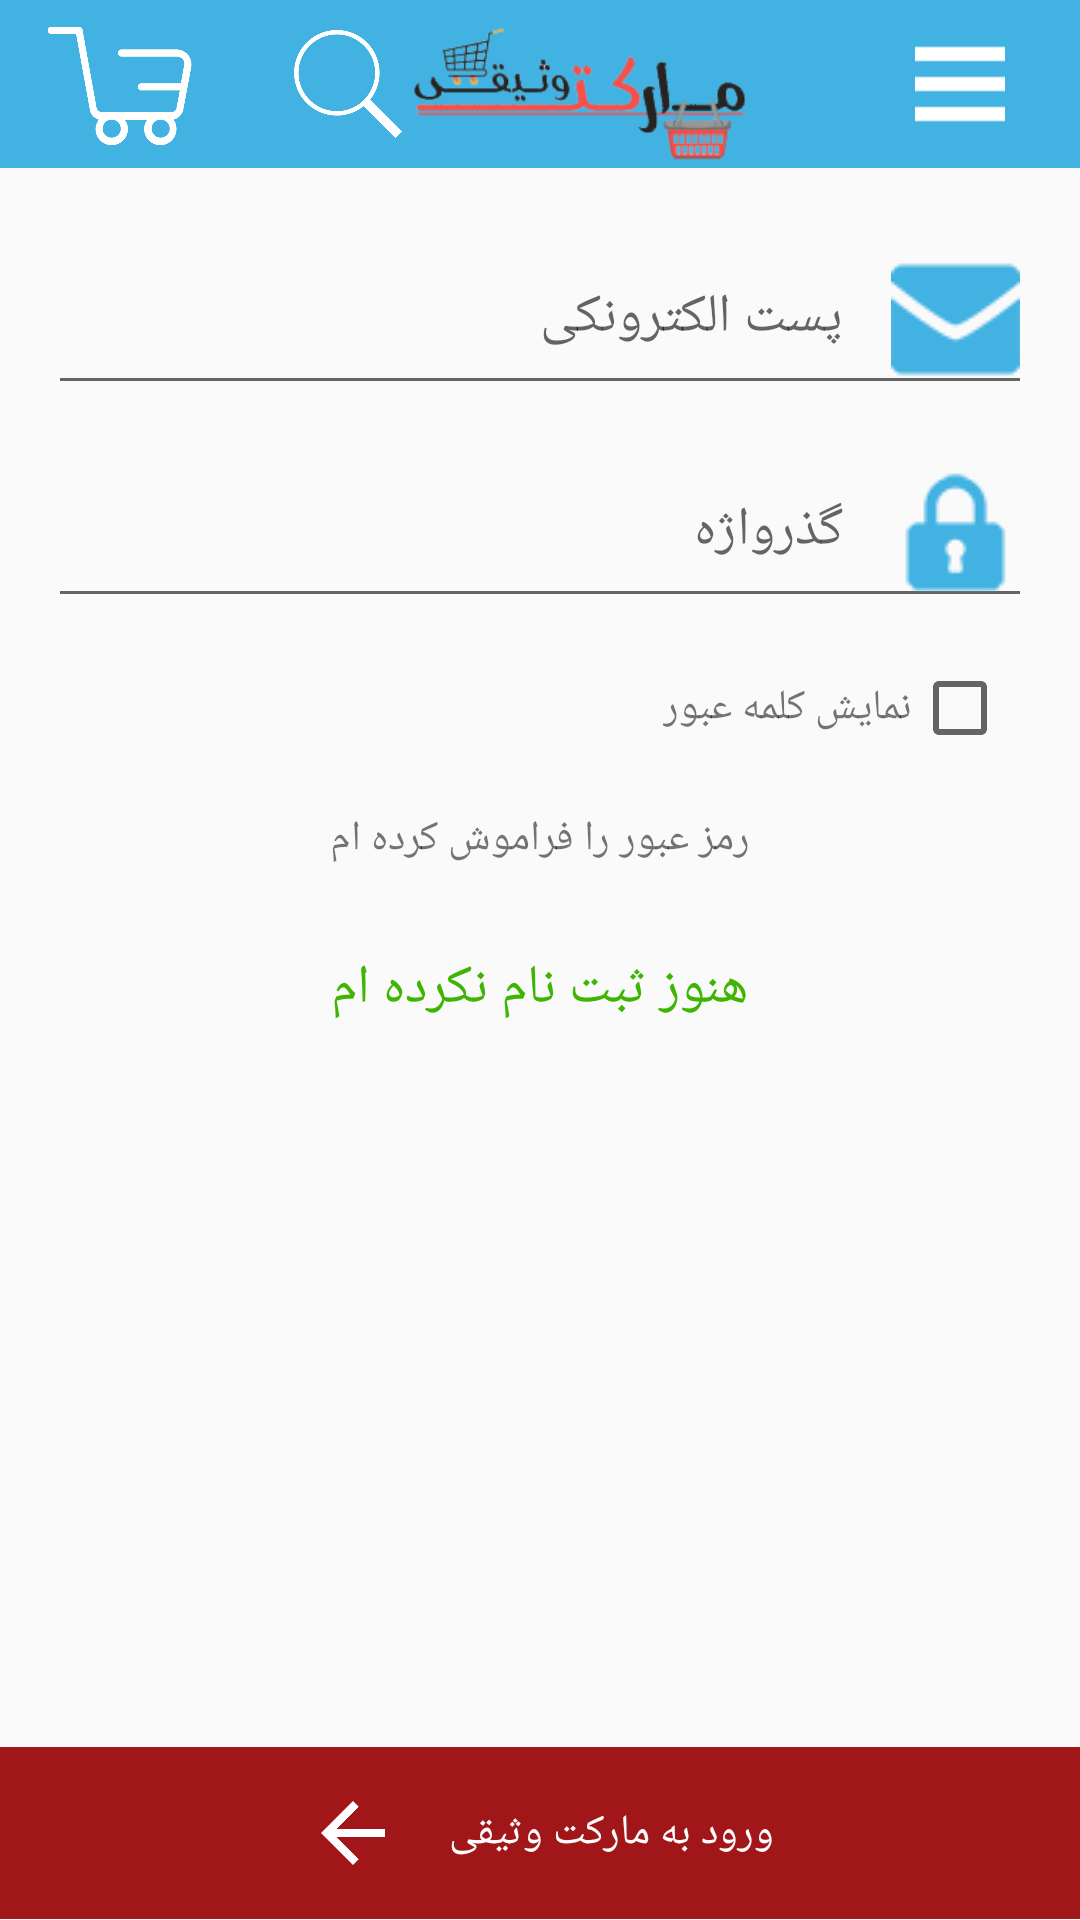

Icon bounding boxes for this 1080 x 1920 phone screenshot, format bbox(x1, y1, x2, y2):
basket: bbox(48, 27, 192, 145)
menu: bbox(915, 46, 1005, 122)
